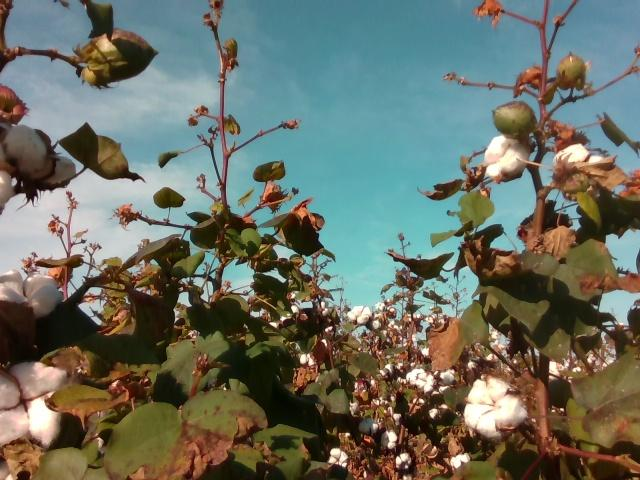cotton_ready: (0, 125, 77, 210), (0, 362, 68, 446), (463, 378, 529, 439), (0, 269, 62, 318), (487, 135, 528, 179), (554, 145, 607, 176)
